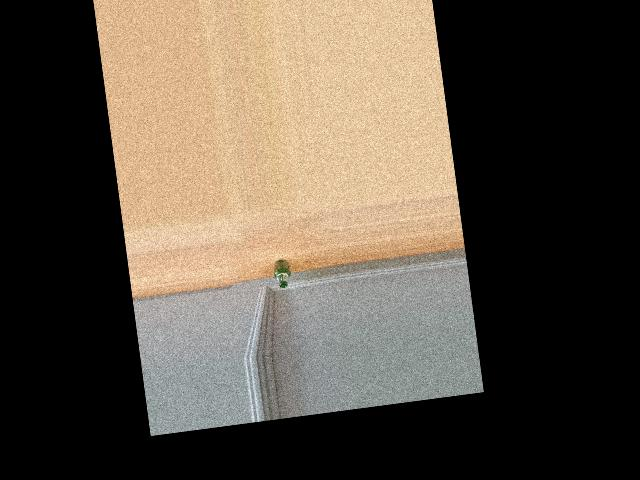beer: (271, 258, 292, 288)
